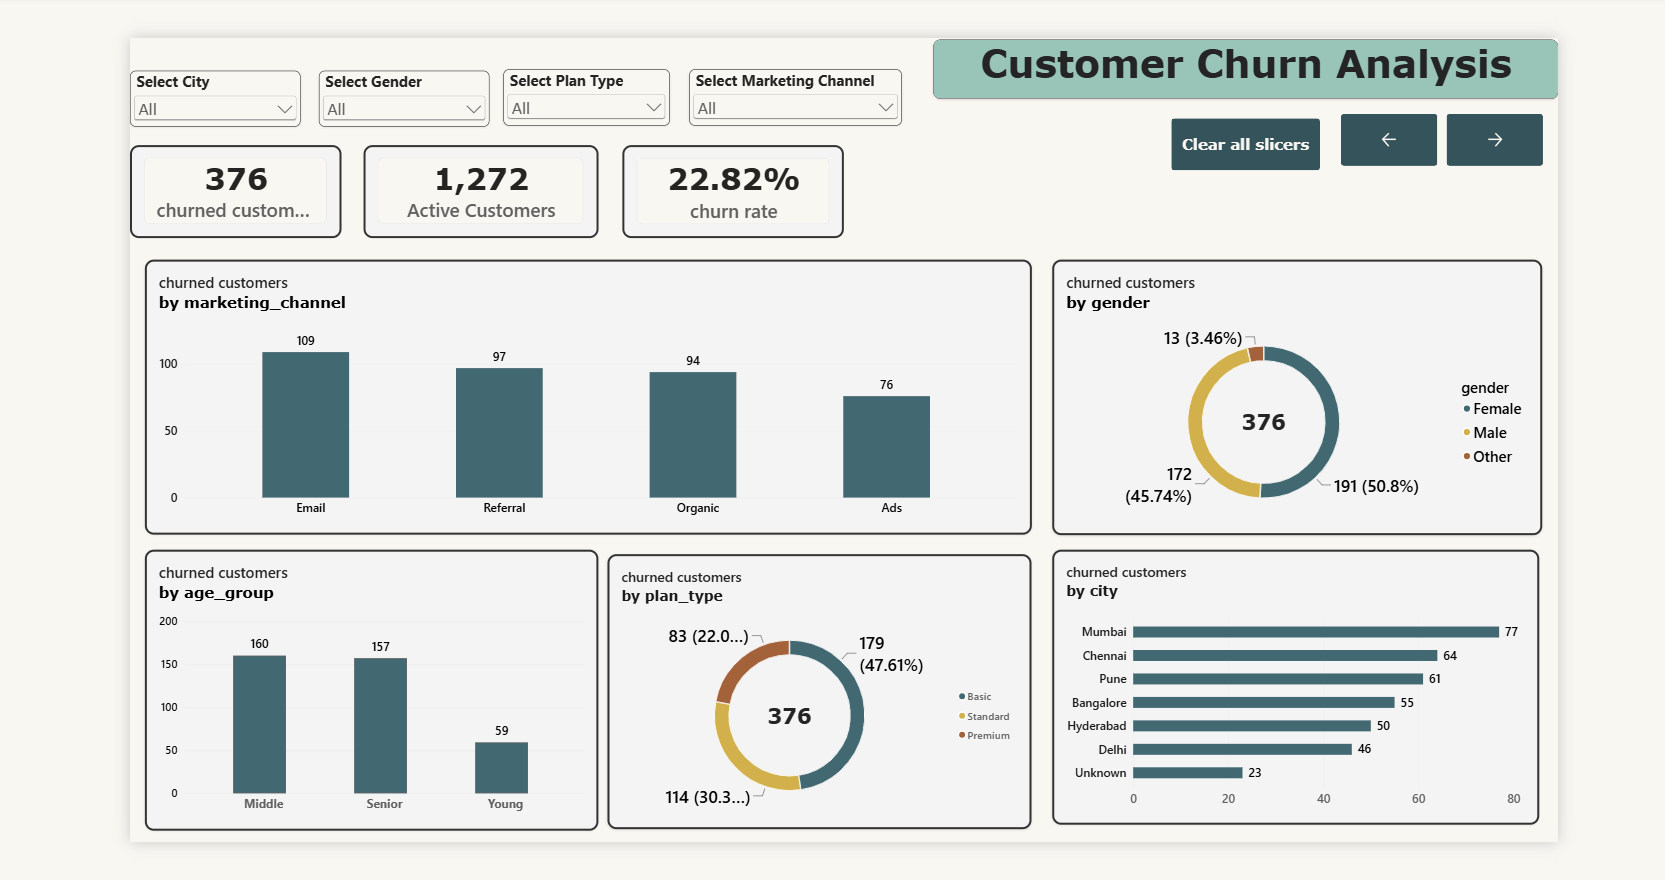

This screenshot's page, from the dashboard's own definition file:
{"tool":"powerbi","page":{"name":"Customer Churn ","canvas":[1920,1080],"ordinal":2},"visuals":[{"type":"cardVisual","fields":{"Data":["Table1.churned customers"]},"box":[0,143.2,284.1,125],"z":0},{"type":"clusteredBarChart","fields":{"Category":["Table1.city"],"Y":["Table1.churned customers"]},"box":[1240,687.5,655,370],"z":0,"group":"g1"},{"type":"cardVisual","fields":{"Data":["Table1.Active Customers"]},"box":[313.6,143.2,315.9,125],"z":1000},{"type":"donutChart","fields":{"Category":["Table1.gender"],"Y":["Table1.churned customers"]},"box":[1241,297.7,659.1,370.5],"z":1000,"group":"g1"},{"type":"cardVisual","fields":{"Data":["Table1.churn rate"]},"box":[661.4,143.2,297.7,125],"z":2000},{"type":"donutChart","fields":{"Category":["Table1.plan_type"],"Y":["Table1.churned customers"]},"box":[643.2,693.2,570,370],"z":2000,"group":"g1"},{"type":"slicer","fields":{"Values":["Table1.city"]},"box":[0,43.2,229.5,75],"z":3000},{"type":"clusteredColumnChart","fields":{"Category":["Table1.marketing_channel"],"Y":["Table1.churned customers"]},"box":[20.5,297.7,1192.5,370],"z":3000,"group":"g1"},{"type":"slicer","fields":{"Values":["Table1.gender"]},"box":[254.5,43.2,229.5,75],"z":4000},{"type":"clusteredColumnChart","fields":{"Category":["Table1.age_group"],"Y":["Table1.churned customers"]},"box":[20.5,688.6,610,377.5],"z":4000,"group":"g1"},{"type":"slicer","fields":{"Values":["Table1.plan_type"]},"box":[502.4,42.9,223.8,76.2],"z":5000},{"type":"slicer","fields":{"Values":["Table1.marketing_channel"]},"box":[752.4,42.9,285.7,76.2],"z":6000},{"type":"textbox","title":"         Customer Churn Analysis","box":[1080,2.5,840,80],"z":7000},{"type":"actionButton","box":[1400,107.5,200,70],"z":8000},{"type":"group","id":"g1","title":"customer_churn","box":[20.5,297.7,1879.5,768.4],"z":9000},{"type":"actionButton","box":[1770,102.5,130,70],"z":9001},{"type":"actionButton","box":[1627.5,102.5,130,70],"z":9002}]}

Visuals, with their boxes on the page's 1920x1080 design canvas (x1, y1, x2, y2). These are canvas units, not pixel positions in the 1665x880 screenshot, which may show the page scaled, cropped or inside an application window:
cardVisual - Table1.churned customers: locate(0, 143, 284, 268)
clusteredBarChart - Table1.city x Table1.churned customers: locate(1240, 688, 1895, 1058)
cardVisual - Table1.Active Customers: locate(314, 143, 630, 268)
donutChart - Table1.gender x Table1.churned customers: locate(1241, 298, 1900, 668)
cardVisual - Table1.churn rate: locate(661, 143, 959, 268)
donutChart - Table1.plan_type x Table1.churned customers: locate(643, 693, 1213, 1063)
slicer - Table1.city: locate(0, 43, 230, 118)
clusteredColumnChart - Table1.marketing_channel x Table1.churned customers: locate(20, 298, 1213, 668)
slicer - Table1.gender: locate(254, 43, 484, 118)
clusteredColumnChart - Table1.age_group x Table1.churned customers: locate(20, 689, 630, 1066)
slicer - Table1.plan_type: locate(502, 43, 726, 119)
slicer - Table1.marketing_channel: locate(752, 43, 1038, 119)
"         Customer Churn Analysis" textbox: locate(1080, 2, 1920, 82)
actionButton: locate(1400, 108, 1600, 178)
"customer_churn" group: locate(20, 298, 1900, 1066)
actionButton: locate(1770, 102, 1900, 172)
actionButton: locate(1628, 102, 1758, 172)
